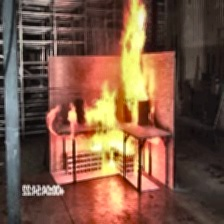fire: (46, 0, 168, 179)
